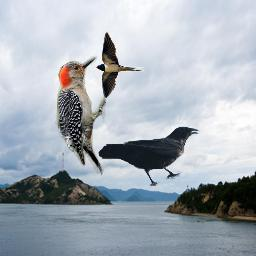Crow: (98, 126, 200, 186)
Swallow: (95, 31, 146, 100)
Woodpecker: (53, 54, 106, 182)
